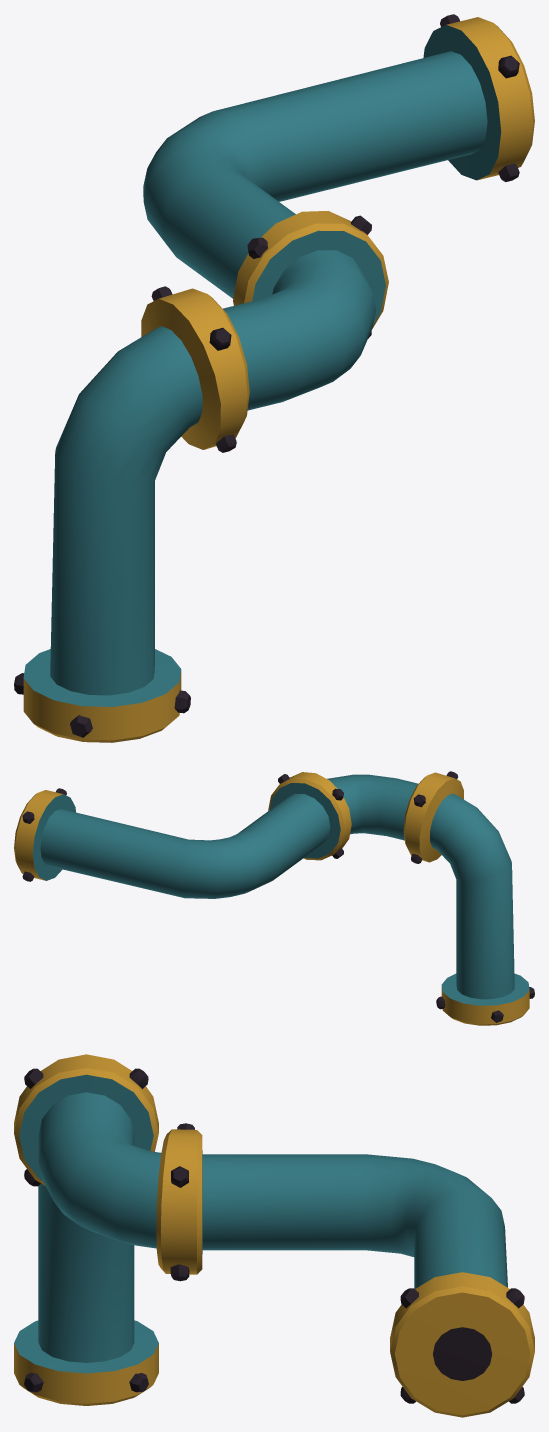
The model's file is PipeRun_22.glb.
3 views of the same model, one above another, from view 1: azimuth 30°, elevation 25°; view 2: azimuth 150°, elevation 25°; view 3: azimuth 270°, elevation 25° (orthographic). The views are drawn at different scales.
Visible parts, largest first — view 1: PipeRun_22; view 2: PipeRun_22; view 3: PipeRun_22.
Part boxes in pixels (left/top/right/bottom): PipeRun_22: left=14, top=14, right=534, bottom=742; PipeRun_22: left=14, top=771, right=534, bottom=1025; PipeRun_22: left=14, top=1054, right=534, bottom=1417.
Bounding box in the file's own units: 5.48 × 3.06 × 4.05.
